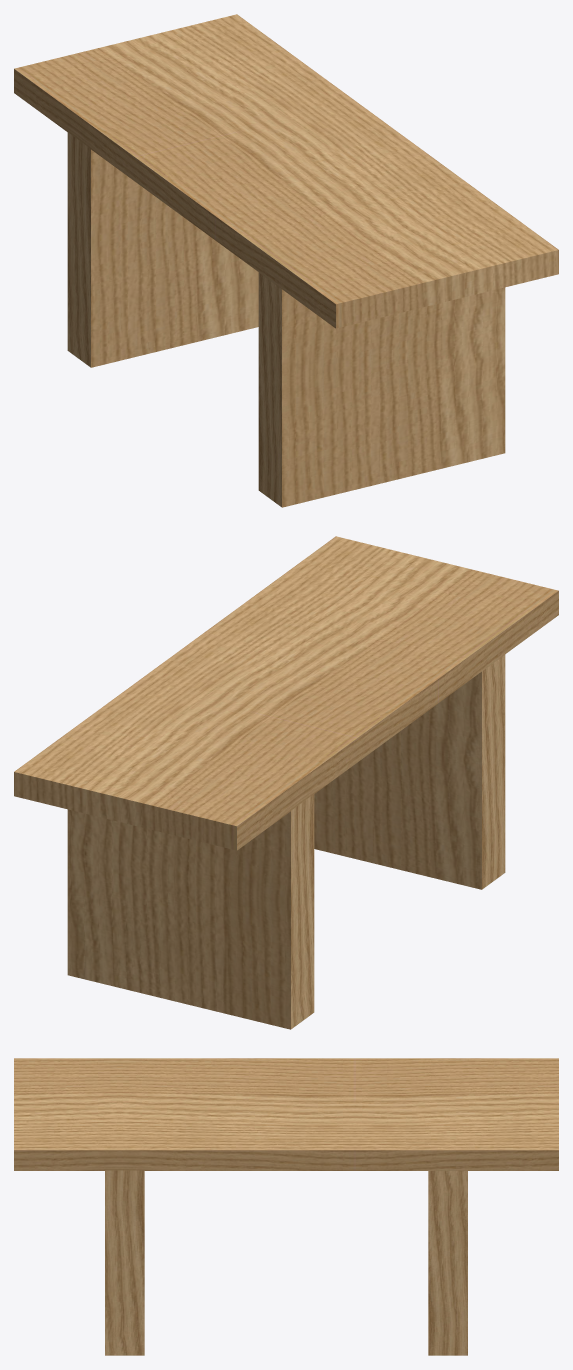
The model's file is bench_1.obj.
3 views of the same model, one above another, from view 1: azimuth 30°, elevation 25°; view 2: azimuth 150°, elevation 25°; view 3: azimuth 270°, elevation 25° (orthographic). The views are drawn at different scales.
Visible parts, largest first — view 1: bench_1; view 2: bench_1; view 3: bench_1.
Boxes of the visible parts, bbox=[...] form: bench_1: bbox=[14, 14, 558, 507]; bench_1: bbox=[14, 536, 558, 1029]; bench_1: bbox=[14, 1058, 558, 1355].
Size of the model in its own units: 4.8 by 4.99 by 11.99.
Materials: 1 (1 with a texture image).
